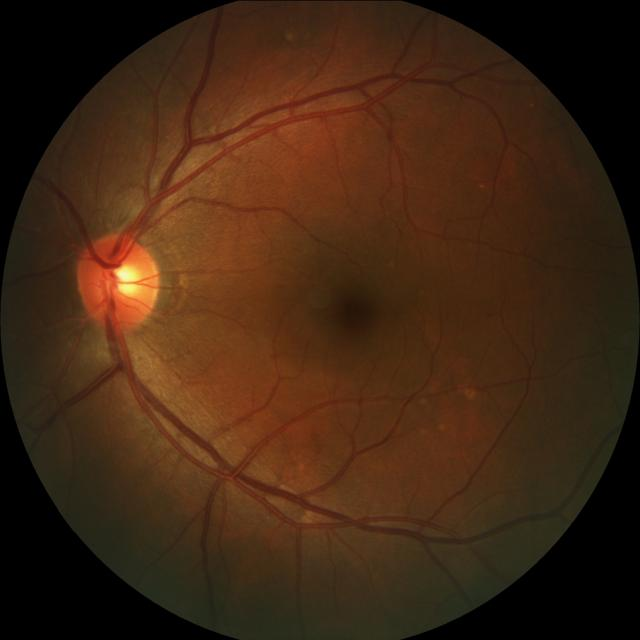OC: (101, 258, 140, 303)
OD: (77, 232, 162, 330)
